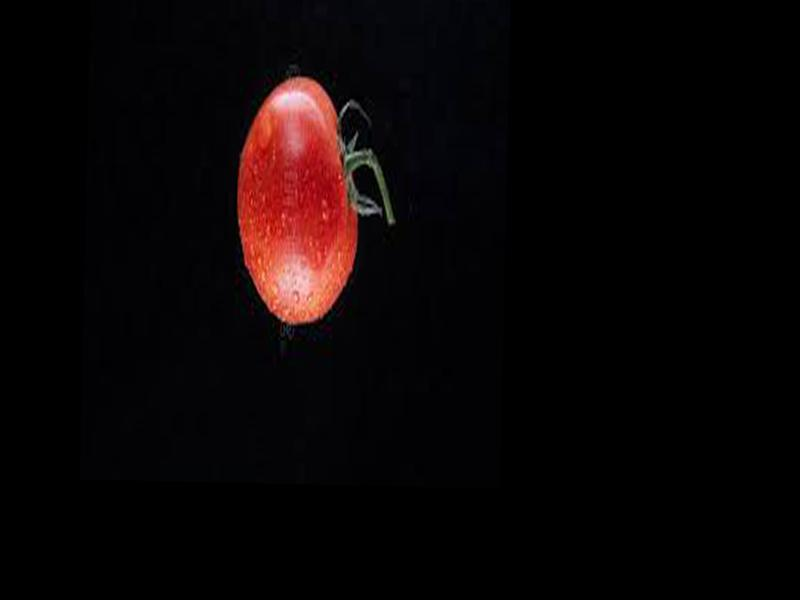Tomato: (234, 76, 361, 326)
